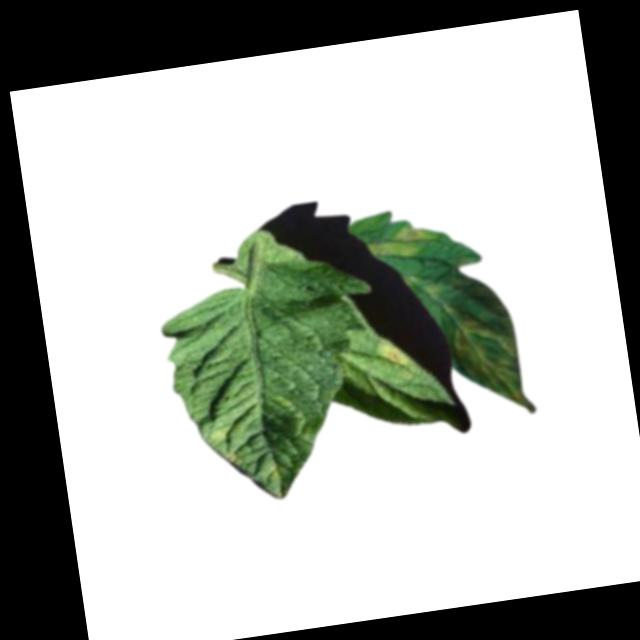Leaf_Mold: (448, 308, 537, 426), (362, 220, 442, 263), (205, 418, 243, 471), (369, 337, 414, 375)
